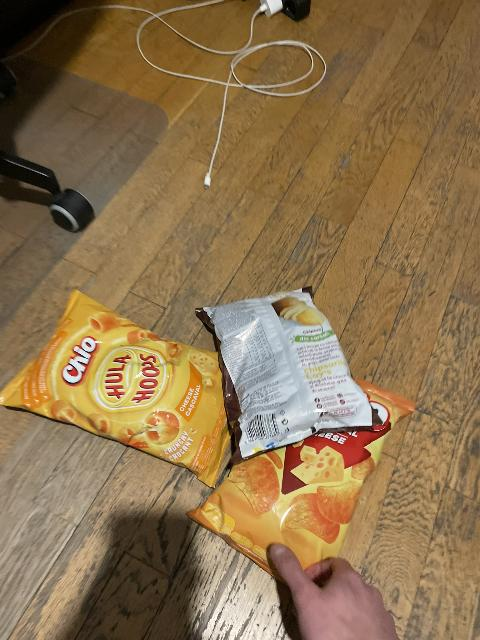Chio Cascaval 125g: (204, 379, 419, 587)
Chio Hula Hoops Cheese 70g: (0, 294, 230, 478)
Lays Beef Grilled Ribs 125g: (192, 282, 382, 452)
